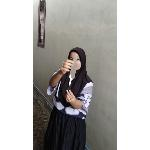Pisau: (61, 52, 82, 99)
